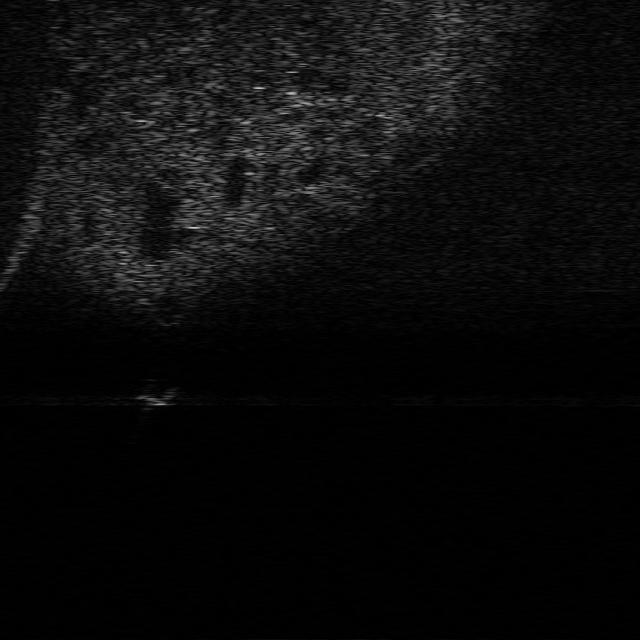cube: (138, 380, 178, 405)
